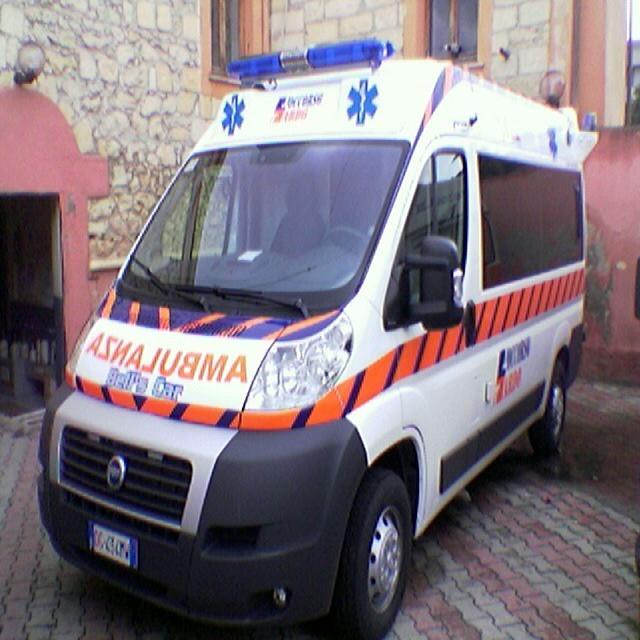emergency-vehicle: (32, 48, 592, 623)
